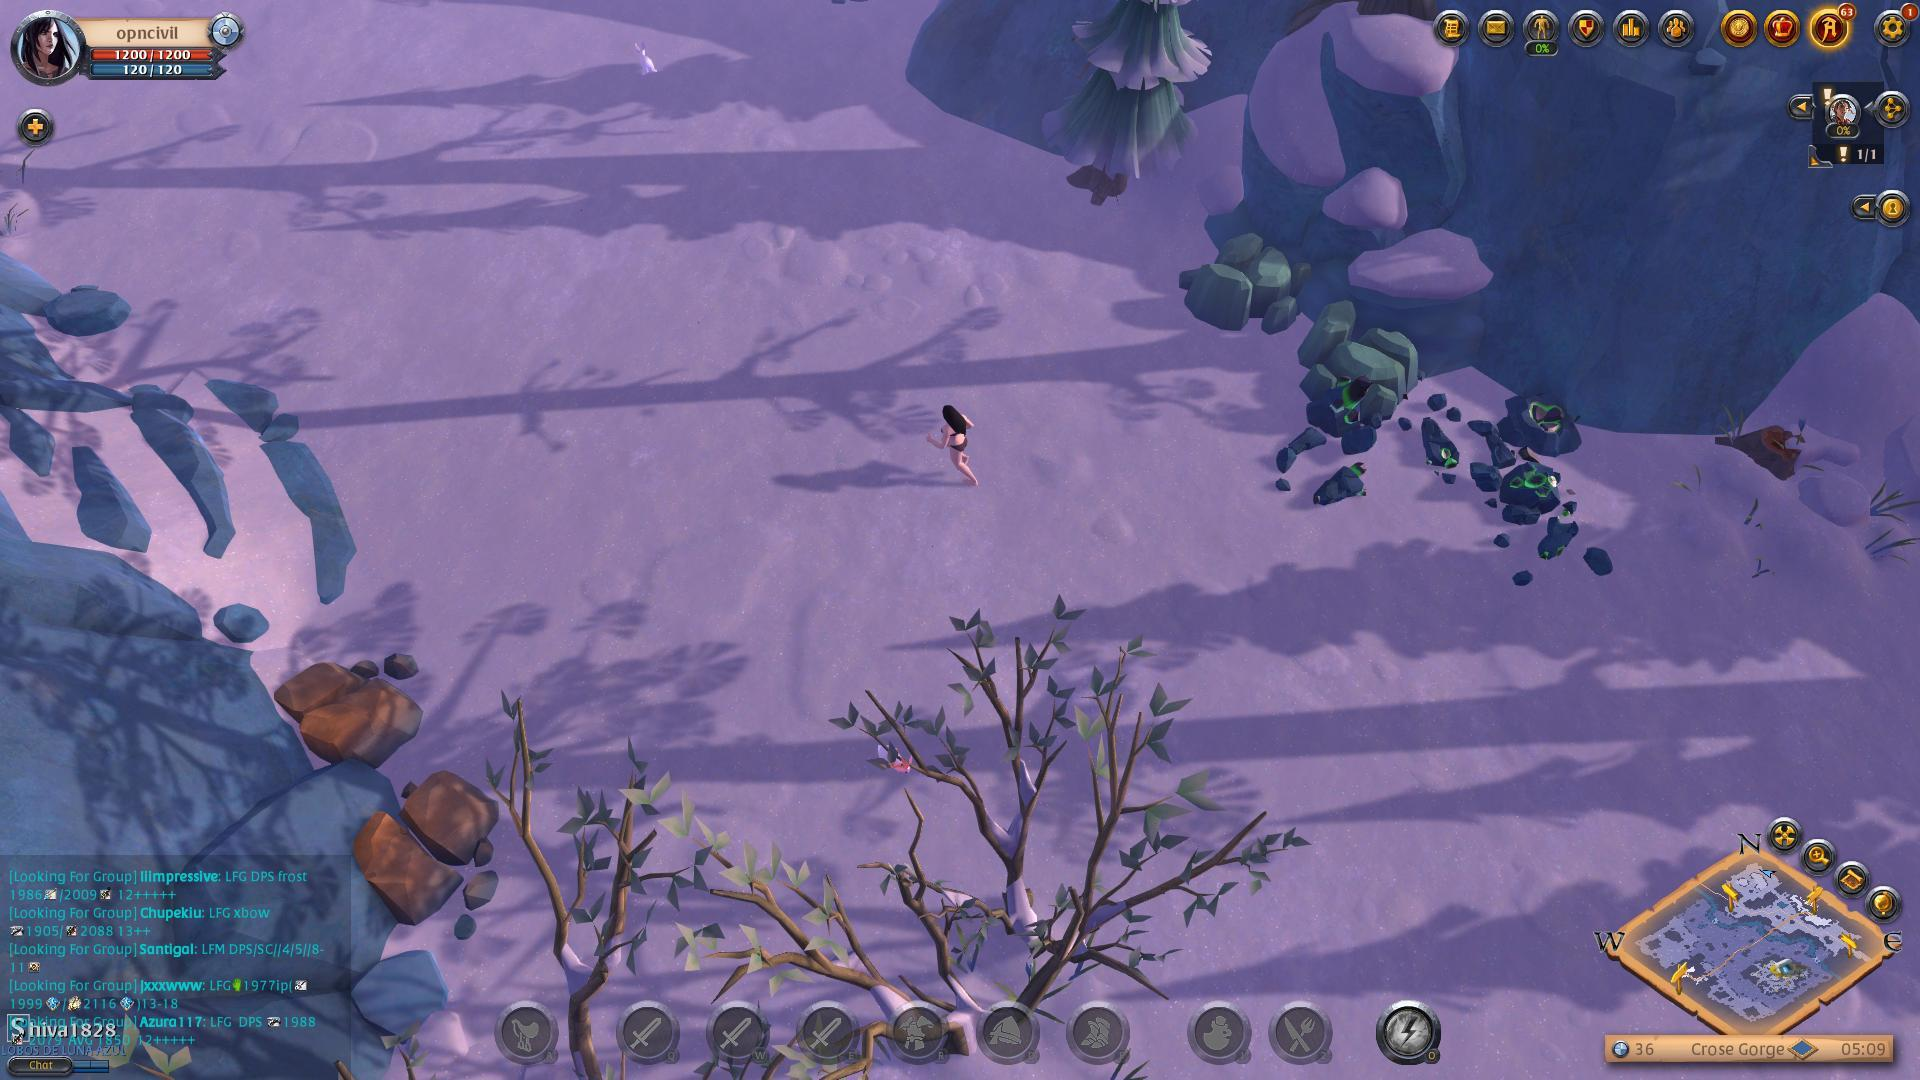limestone: (355, 767, 514, 934), (273, 655, 431, 781)
sandstone: (1175, 239, 1327, 339)
tin_ore: (1308, 376, 1383, 456)
